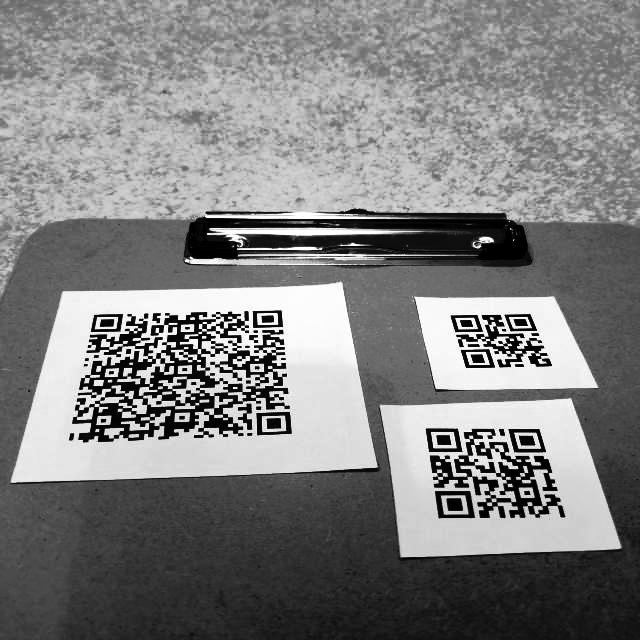qr_code: (62, 301, 309, 453), (415, 420, 577, 532), (443, 301, 563, 378)
